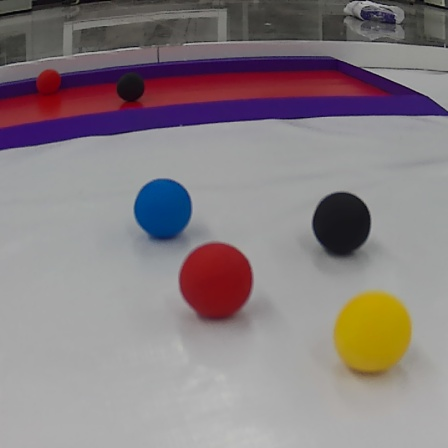black: (311, 189, 373, 259), (115, 66, 149, 105)
blue: (130, 174, 193, 241)
red: (178, 240, 257, 322), (35, 66, 59, 94)
red_aim: (2, 51, 448, 155)
yellow: (332, 290, 415, 377)
